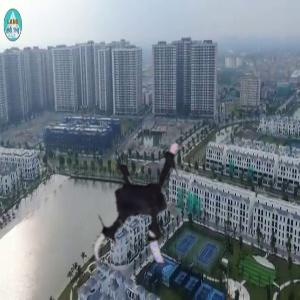drone: (74, 138, 224, 288)
